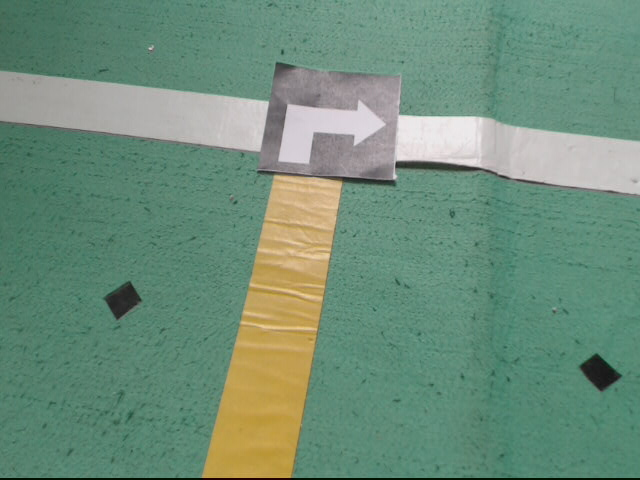right: (257, 60, 404, 184)
